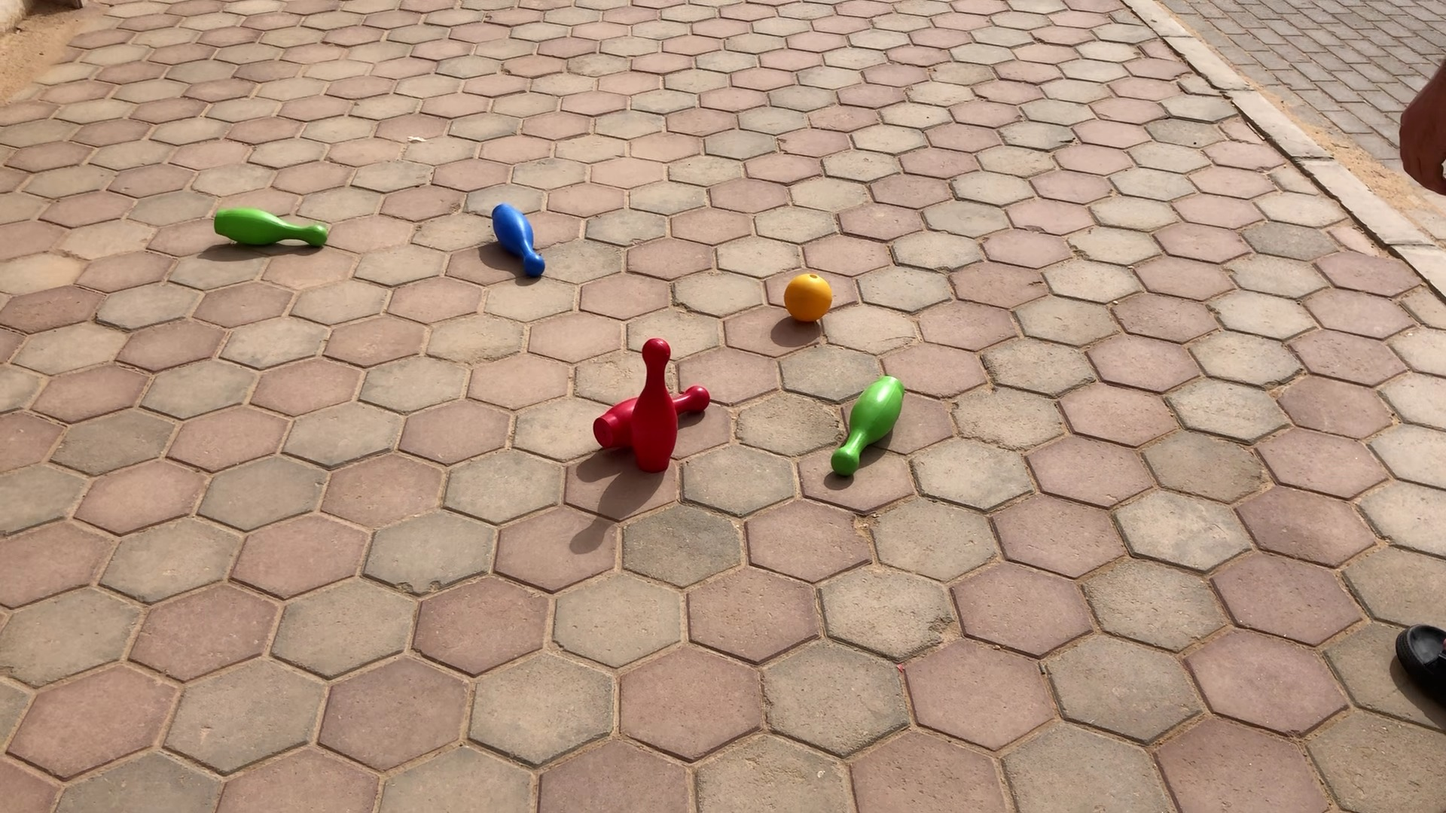bowling-pin: (614, 340, 682, 470), (596, 388, 706, 452), (832, 377, 899, 476), (212, 208, 331, 249), (493, 203, 548, 276)
